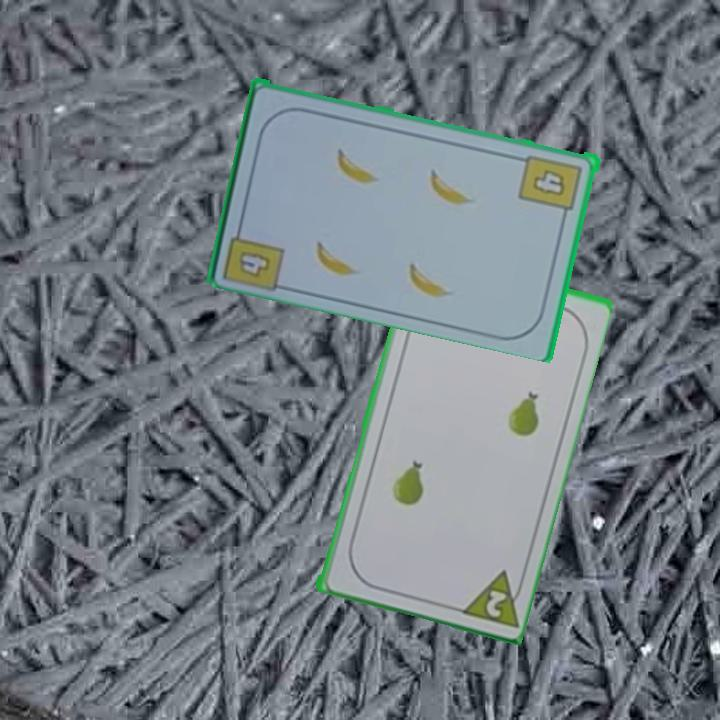2p: (454, 565, 528, 630)
4b: (220, 217, 289, 291), (516, 150, 586, 222)
